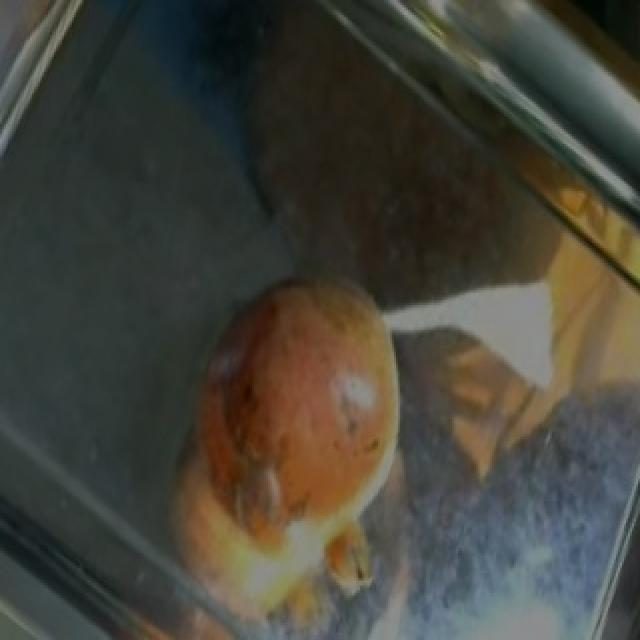fruit: (166, 246, 434, 504)
